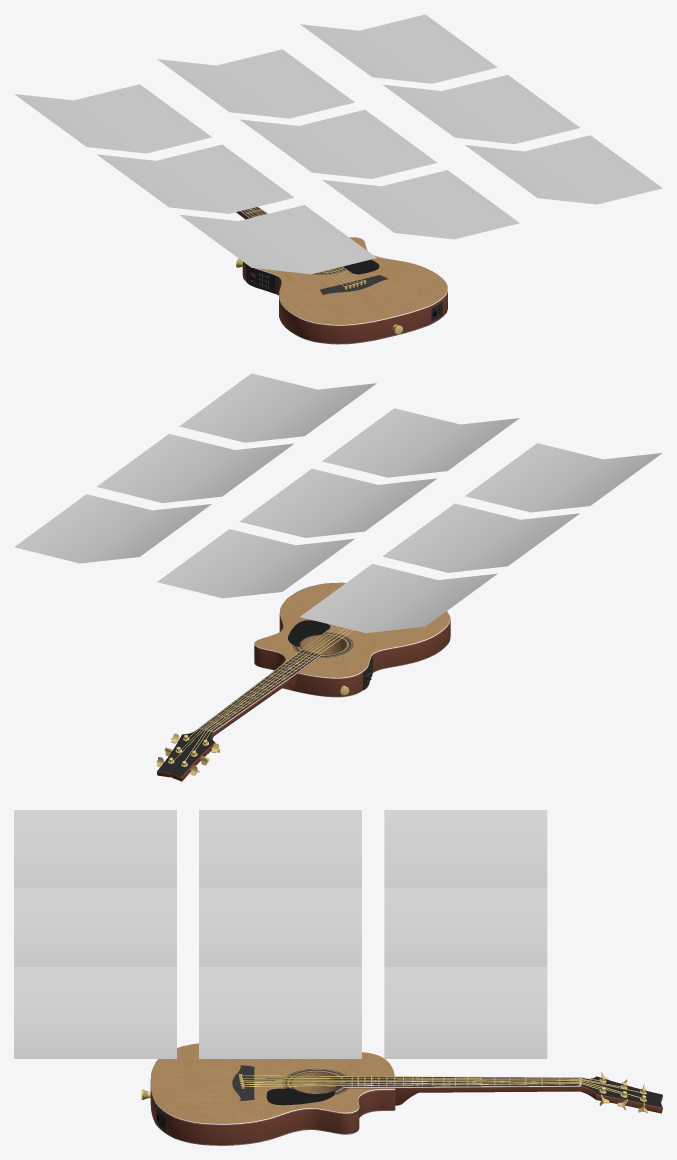
Rendered from Electric Guitar.fbx.
3 renders of one model, top to bottom at view 1: azimuth 30°, elevation 25°; view 2: azimuth 150°, elevation 25°; view 3: azimuth 270°, elevation 25°, orthographic. The views are drawn at different scales.
Visible parts, largest first — view 1: Guitar, Plane_7, Plane_3, Plane_4, Plane_8, Plane_1, Plane_6, Plane_2, Plane_0, Plane_5; view 2: Guitar, Plane_3, Plane_2, Plane_8, Plane_1, Plane_4, Plane_7, Plane_0, Plane_6, Plane_5; view 3: Guitar, Plane_8, Plane_2, Plane_5, Plane_7, Plane_6, Plane_0, Plane_1, Plane_3, Plane_4.
Boxes of the visible parts, bbox=[...] form: Guitar: bbox=[236, 207, 447, 344]; Plane_7: bbox=[157, 49, 354, 118]; Plane_3: bbox=[97, 144, 294, 213]; Plane_4: bbox=[239, 109, 437, 178]; Plane_8: bbox=[300, 14, 497, 83]; Plane_1: bbox=[322, 170, 519, 239]; Plane_6: bbox=[14, 84, 211, 153]; Plane_2: bbox=[465, 135, 662, 204]; Plane_0: bbox=[179, 205, 376, 274]; Plane_5: bbox=[383, 75, 579, 144]; Guitar: bbox=[156, 582, 450, 781]; Plane_3: bbox=[382, 503, 579, 572]; Plane_2: bbox=[179, 373, 376, 442]; Plane_8: bbox=[14, 494, 211, 563]; Plane_1: bbox=[322, 408, 519, 477]; Plane_4: bbox=[239, 468, 436, 537]; Plane_7: bbox=[157, 529, 354, 598]; Plane_0: bbox=[465, 443, 662, 512]; Plane_6: bbox=[300, 564, 497, 633]; Plane_5: bbox=[97, 434, 293, 502]; Guitar: bbox=[141, 1043, 662, 1145]; Plane_8: bbox=[384, 966, 547, 1058]; Plane_2: bbox=[14, 966, 176, 1058]; Plane_5: bbox=[199, 966, 361, 1058]; Plane_7: bbox=[384, 888, 547, 966]; Plane_6: bbox=[384, 810, 547, 888]; Plane_0: bbox=[14, 810, 176, 888]; Plane_1: bbox=[14, 888, 176, 966]; Plane_3: bbox=[199, 810, 361, 888]; Plane_4: bbox=[199, 888, 361, 966].
Bounding box in the file's own units: 720 × 275 × 876.
1 material, 1 textured.
